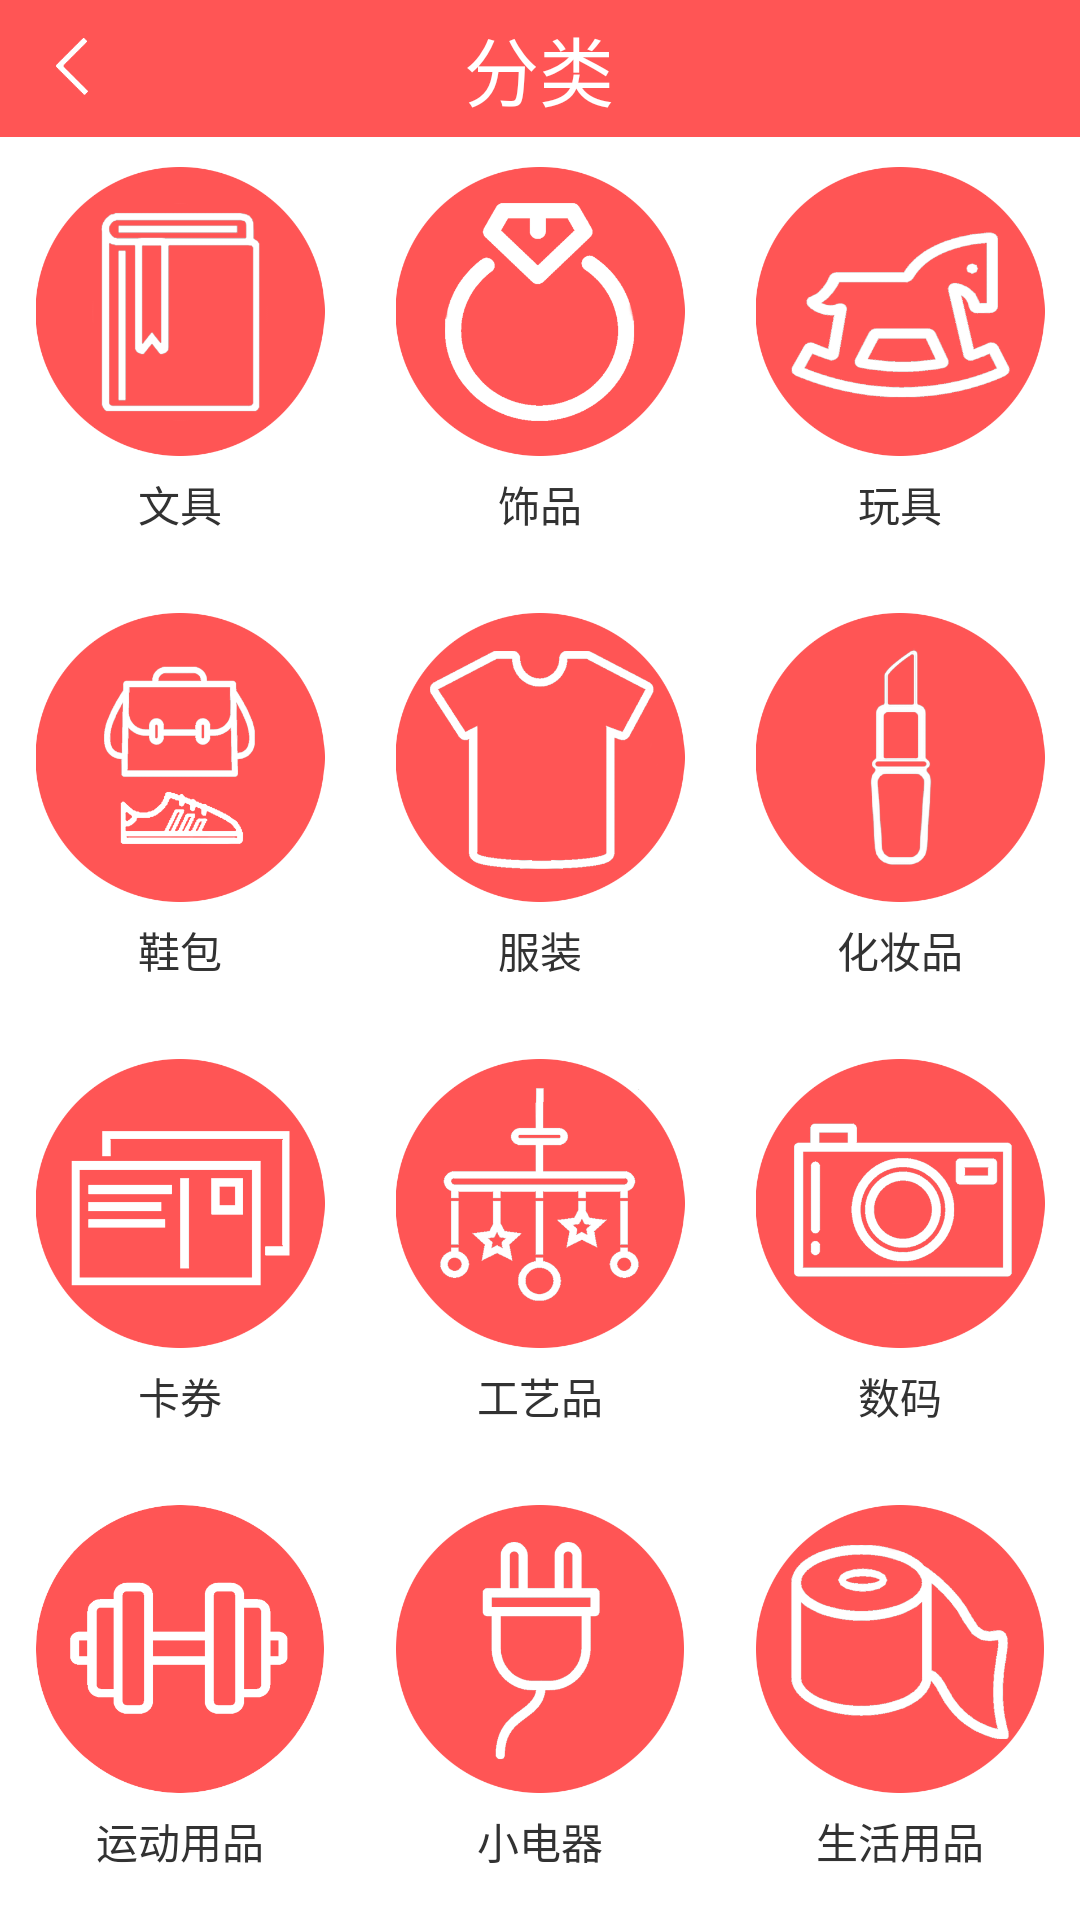

Icons on this 1080 × 1920 Android screen, each with the point to tap as [x,y]:
class book: [180,311]
class camera: [900,1203]
class ring: [540,311]
jiantou left: [72,66]
